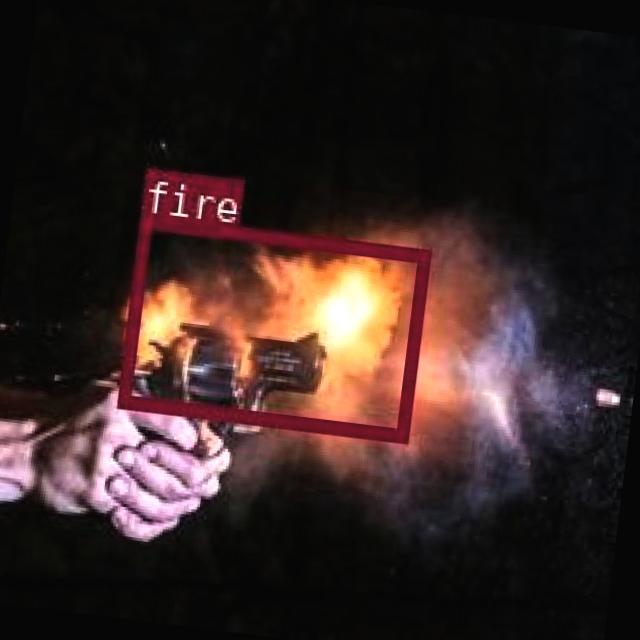fire: (116, 212, 427, 439)
